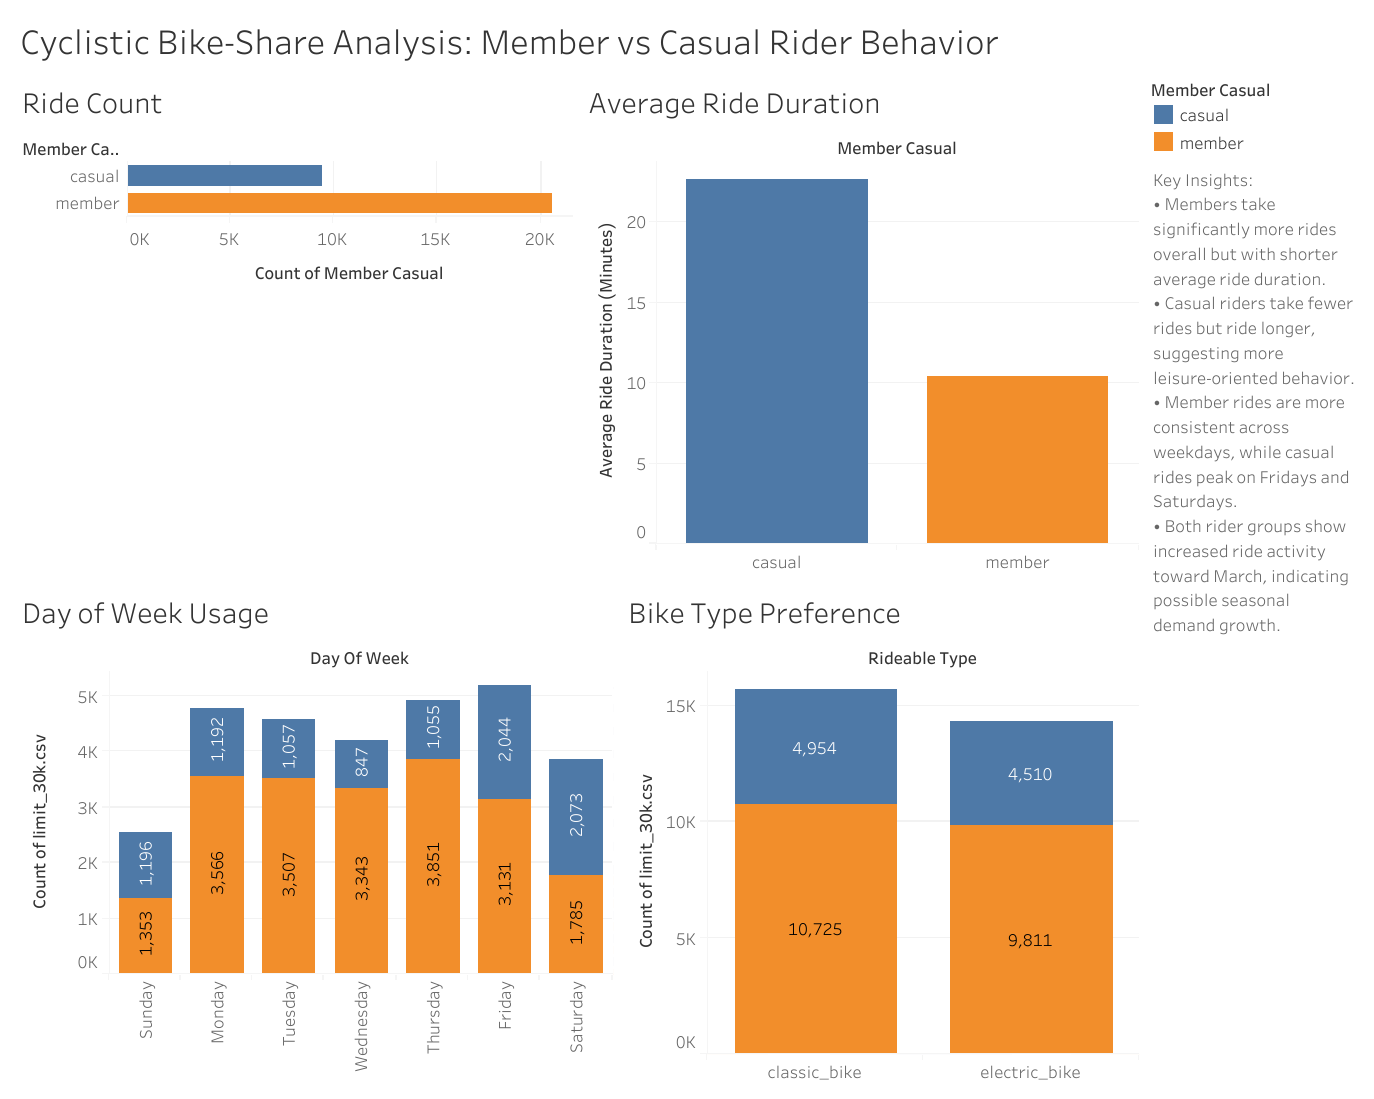

The dashboard page shown, as its layout file describes it:
{"tool":"tableau","page":{"name":"Cyclistic Bike-Share Analysis: Member vs Casual Rider Behavior","canvas":[1000,800],"ordinal":0},"visuals":[{"type":"title","box":[8,8,984,42]},{"type":"worksheet","title":"Ride Count","mark":"Automatic","rows":["member_casual"],"cols":["member_casual"],"box":[8,50,412,371]},{"type":"worksheet","title":"Average Ride Duration","mark":"Automatic","rows":["ride_length_minutes"],"cols":["member_casual"],"box":[420,50,412,371]},{"type":"legend","title":"Day of Week Usage","param":"[federated.1n1vbir05uzet815qh0m51md9dng].[none:member_casual:nk]","box":[832,50,160,67]},{"type":"text","box":[832,117,160,350]},{"type":"worksheet","title":"Day of Week Usage","mark":"Automatic","rows":["limit_30k.csv_D5552E8BC70C464BBDC14DF26DD5F494"],"cols":["day_of_week"],"box":[8,421,441,371]},{"type":"worksheet","title":"Bike Type Preference","mark":"Automatic","rows":["limit_30k.csv_D5552E8BC70C464BBDC14DF26DD5F494"],"cols":["rideable_type"],"box":[449,421,383,371]}]}

Visuals, with their boxes in screenshot pixels (x1, y1, x2, y2), scaled from the page's 1000x800 canvas onto the 1374x1099 screenshot:
title: region(11, 11, 1363, 69)
"Ride Count" worksheet: region(11, 69, 577, 578)
"Average Ride Duration" worksheet: region(577, 69, 1143, 578)
"Day of Week Usage" legend: region(1143, 69, 1363, 161)
text: region(1143, 161, 1363, 642)
"Day of Week Usage" worksheet: region(11, 578, 617, 1088)
"Bike Type Preference" worksheet: region(617, 578, 1143, 1088)
